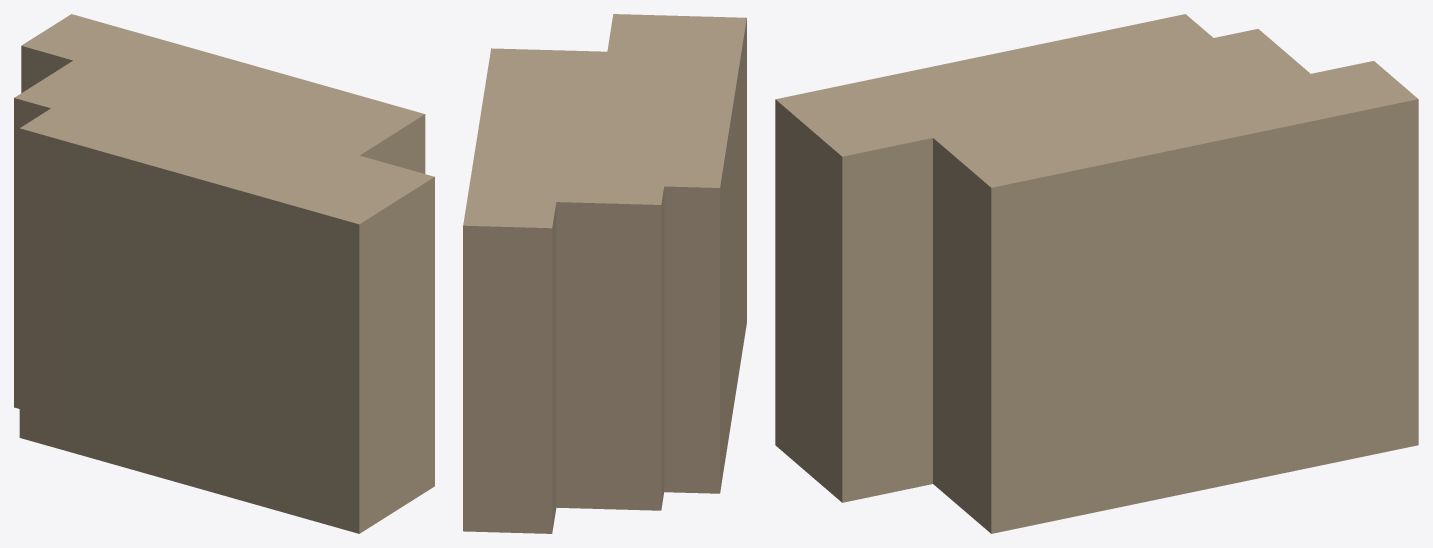
Rendered from bld_106415242.dae.
The picture shows the model from 3 angles, left to right: view 1: azimuth 30°, elevation 25°; view 2: azimuth 150°, elevation 25°; view 3: azimuth 270°, elevation 25°; orthographic projection. The views are drawn at different scales.
Parts seen in each view (by area): view 1: bld_106415242; view 2: bld_106415242; view 3: bld_106415242.
Boxes of the visible parts, bbox=[...] form: bld_106415242: bbox=[14, 14, 434, 533]; bld_106415242: bbox=[463, 14, 746, 533]; bld_106415242: bbox=[775, 14, 1418, 533].
Size of the model in its own units: 8.62 by 13.47 by 8.
